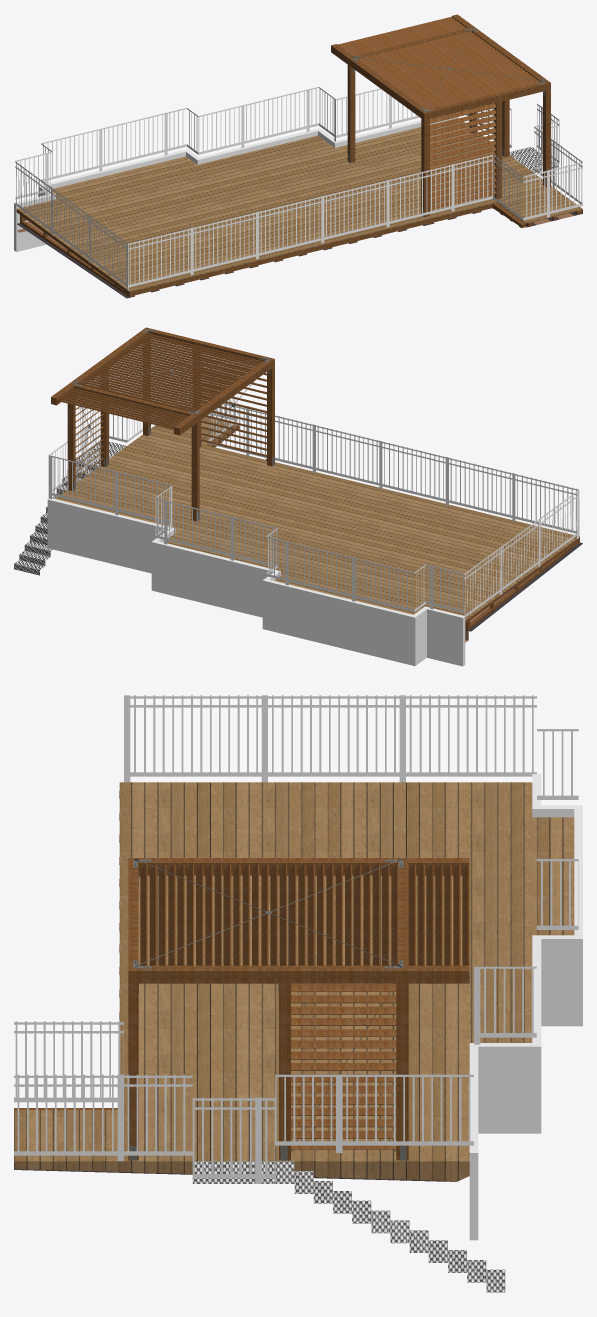
Rendered from pergola.glb.
3 renders of one model, top to bottom at view 1: azimuth 30°, elevation 25°; view 2: azimuth 150°, elevation 25°; view 3: azimuth 270°, elevation 25°, orthographic. The views are drawn at different scales.
Visible parts, largest first — view 1: Material2 (×17); view 2: Material2 (×13); view 3: Material2 (×60).
Boxes of the visible parts, x1=… form: Material2 (×17): x1=14, y1=14, x2=582, y2=298; Material2 (×13): x1=47, y1=327, x2=582, y2=666; Material2 (×60): x1=14, y1=695, x2=582, y2=1240.
Size of the model in its own units: 432 by 155 by 257.
Materials: 9 (8 with a texture image).
